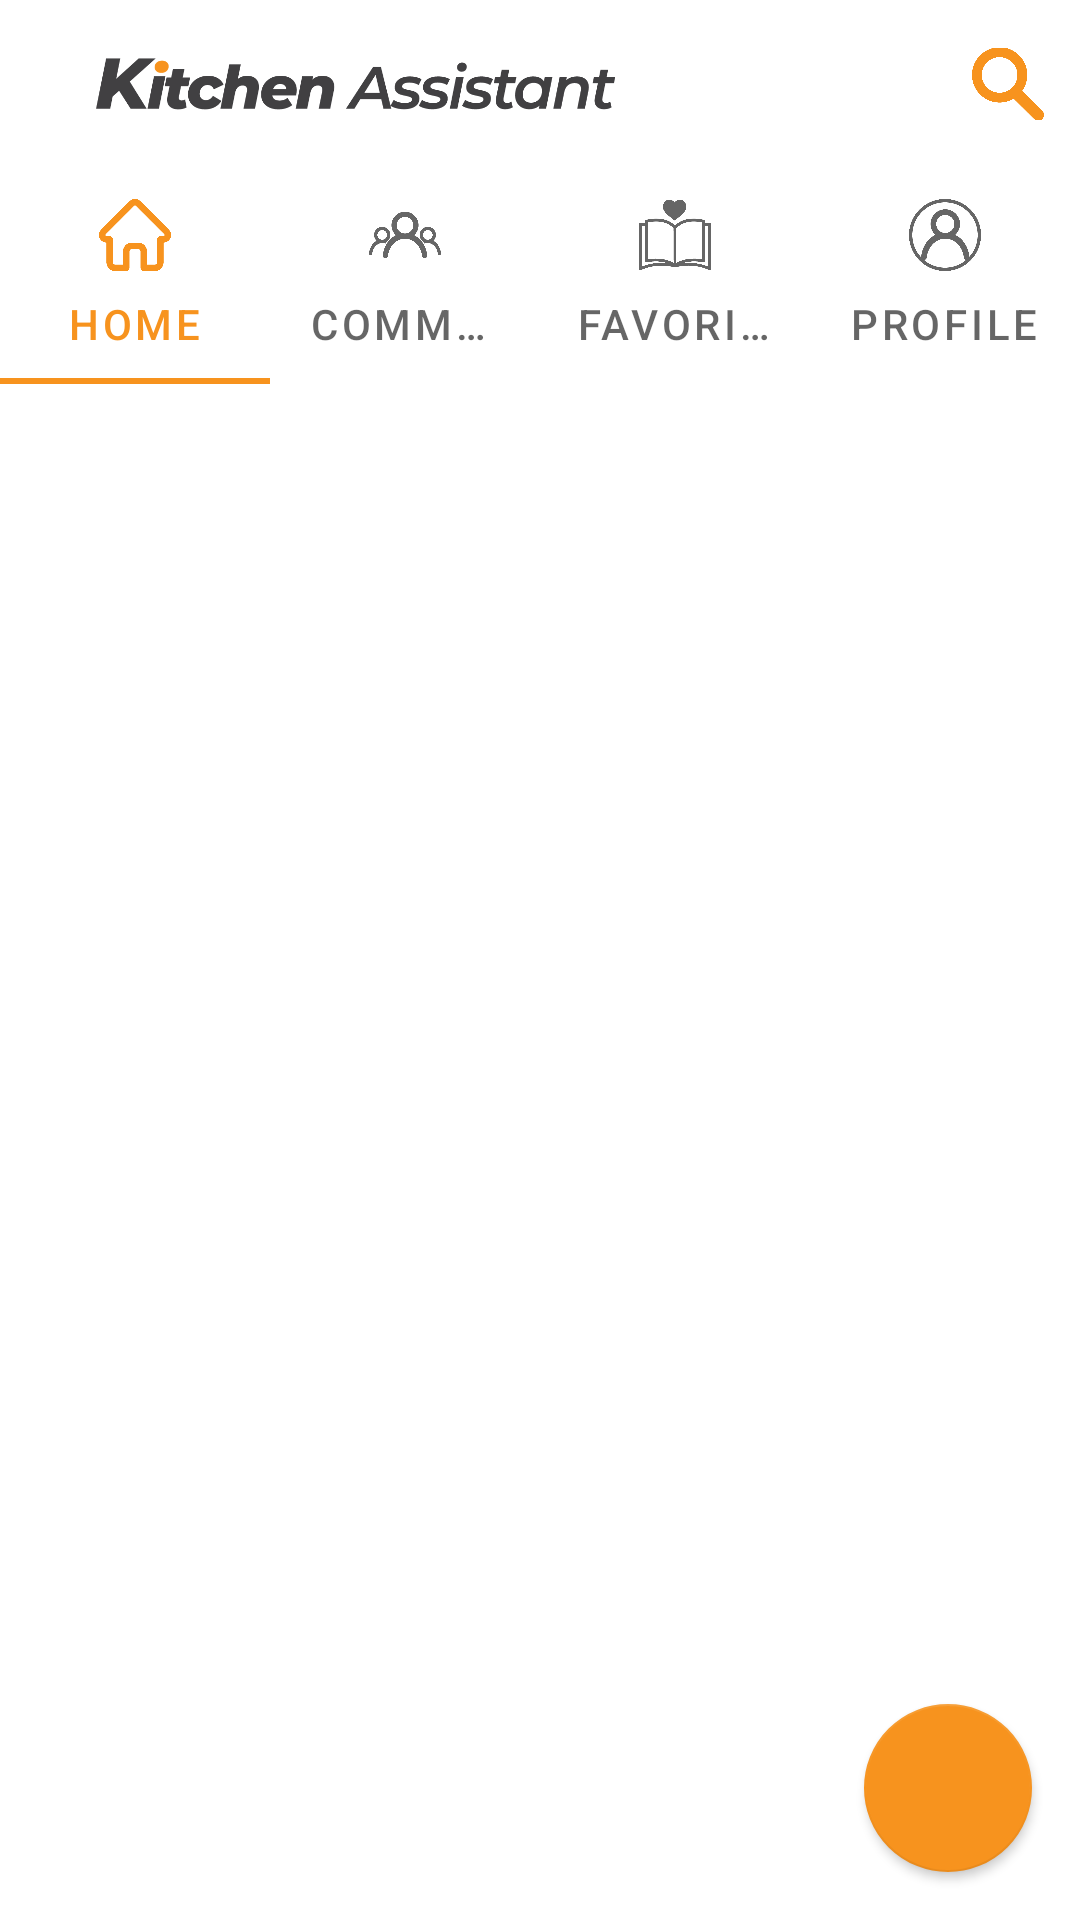

Screen size 1080 × 1920. Icon name, then its center in pixels as [x,y]:
Search: [1008,84]
